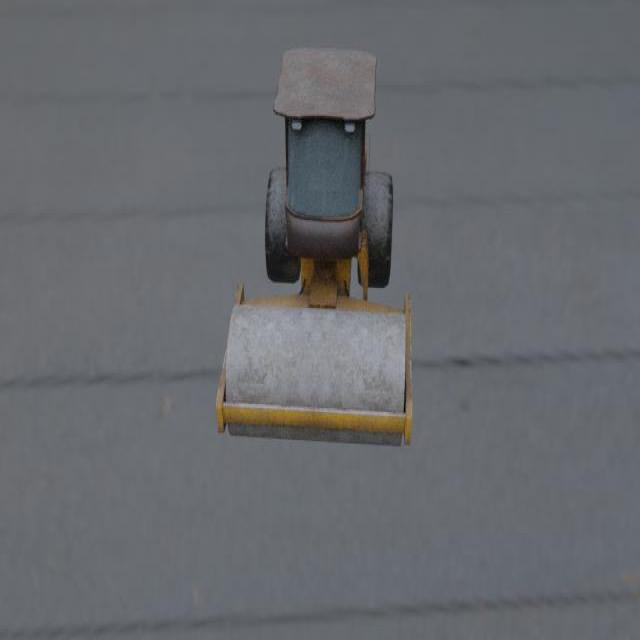Roller: (215, 46, 412, 446)
